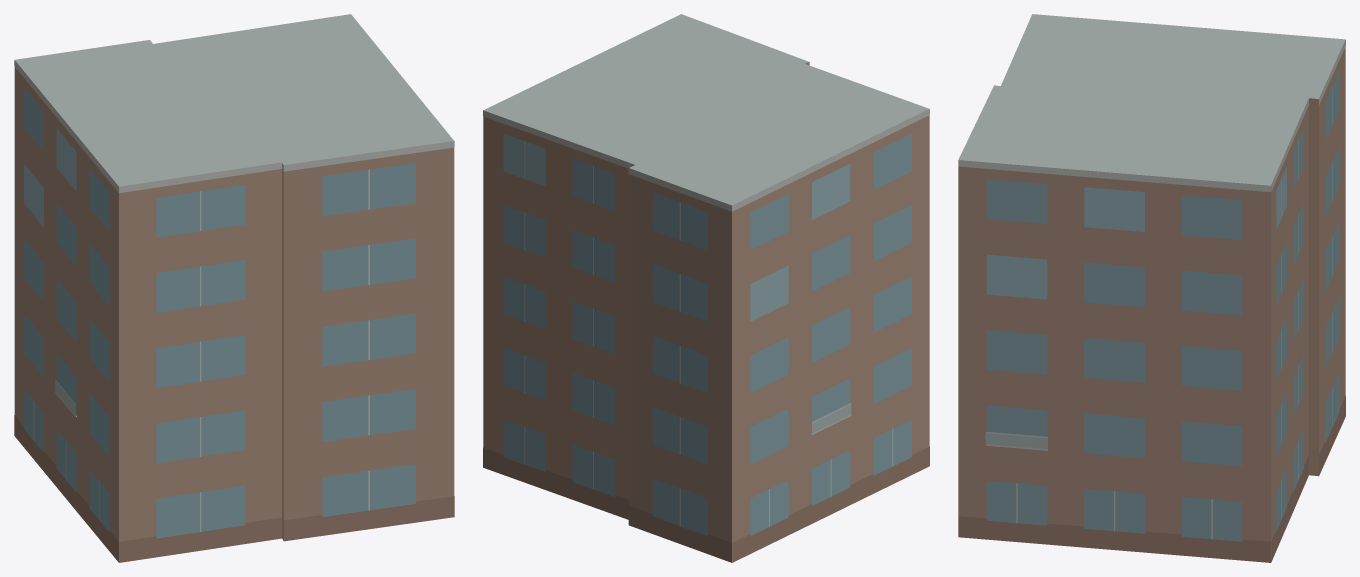
Rendered from survey-upis-32589022.glb.
The picture shows the model from 3 angles, left to right: view 1: azimuth 30°, elevation 25°; view 2: azimuth 150°, elevation 25°; view 3: azimuth 270°, elevation 25°; orthographic projection. The views are drawn at different scales.
Parts seen in each view (by area): view 1: survey-upis-32589022.tmp; view 2: survey-upis-32589022.tmp; view 3: survey-upis-32589022.tmp.
Boxes of the visible parts, x1,y1,x2,y2 form: survey-upis-32589022.tmp: [14, 14, 454, 562]; survey-upis-32589022.tmp: [483, 14, 929, 562]; survey-upis-32589022.tmp: [958, 14, 1345, 562].
Size of the model in its own units: 13.88 by 14.2 by 13.24.
